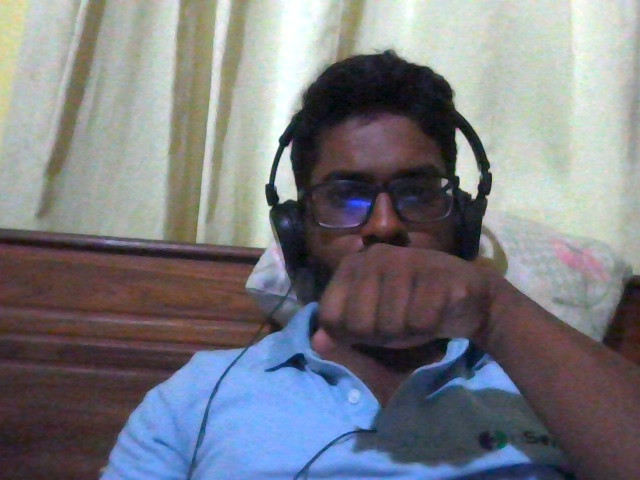Yes: (272, 211, 531, 403)
